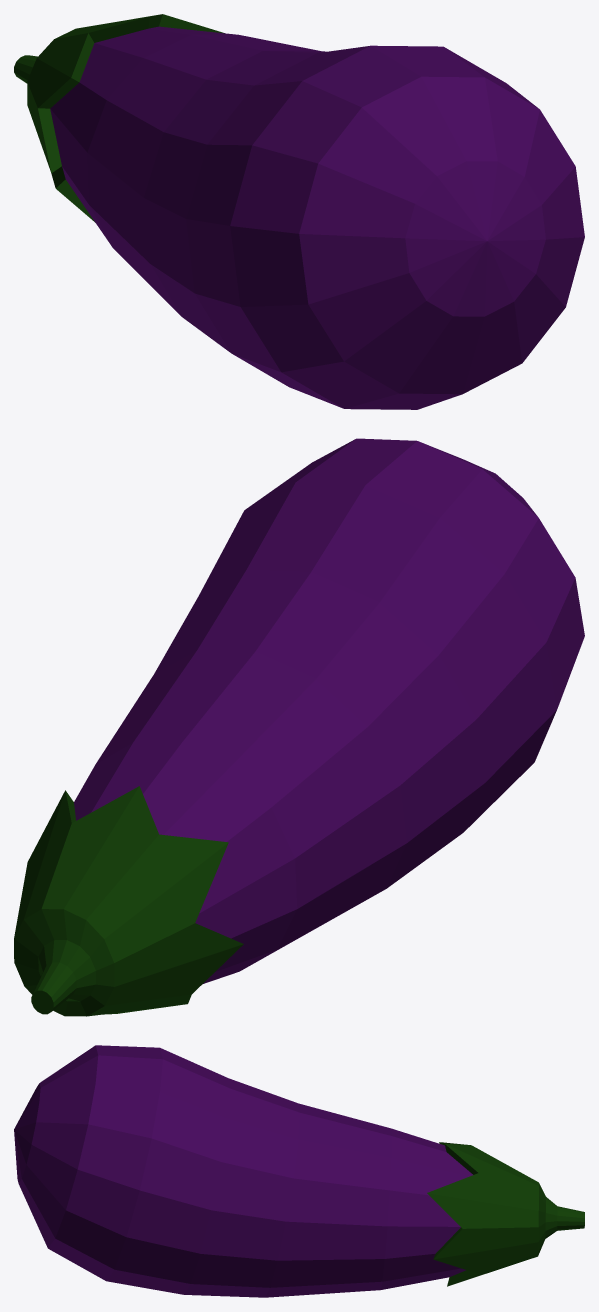
3 views of the same model, one above another, from view 1: azimuth 30°, elevation 25°; view 2: azimuth 150°, elevation 25°; view 3: azimuth 270°, elevation 25° (orthographic). The views are drawn at different scales.
Parts seen in each view (by area): view 1: Eggplant_Sphere.015; view 2: Eggplant_Sphere.015; view 3: Eggplant_Sphere.015.
Boxes of the visible parts, box(x1,y1,x2,y2) form: Eggplant_Sphere.015: box(14, 14, 584, 409); Eggplant_Sphere.015: box(14, 438, 584, 1016); Eggplant_Sphere.015: box(14, 1045, 584, 1297).
Size of the model in its own units: 2.36 by 2.6 by 5.77.
1 material, 1 textured.
